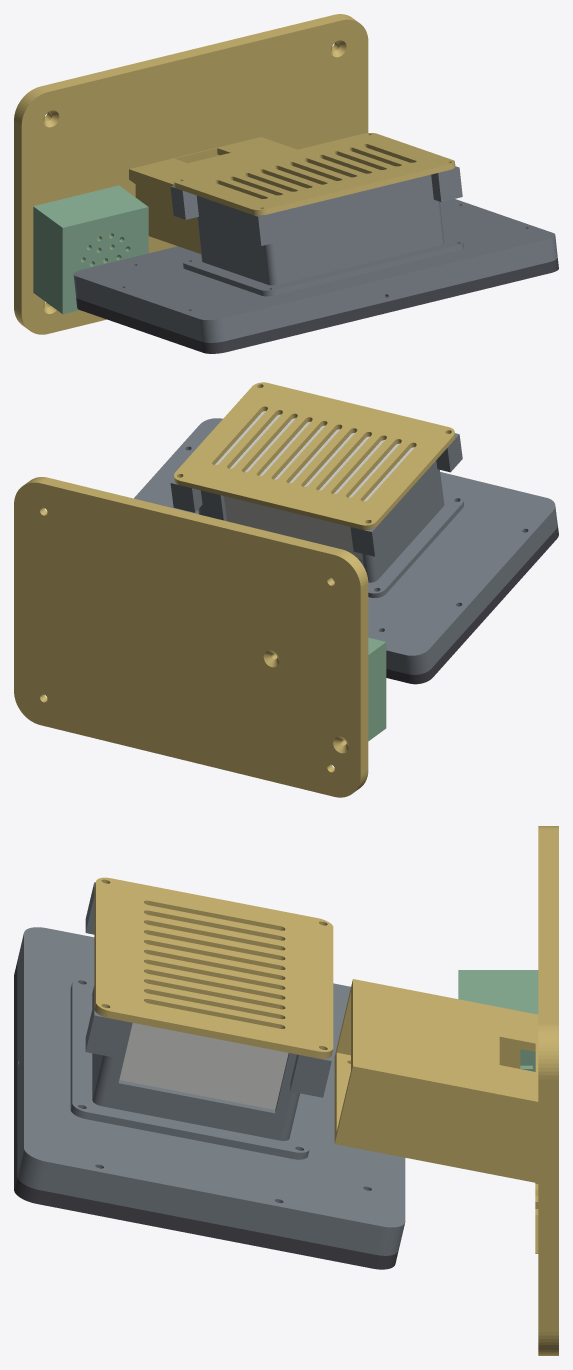
Rendered from montagem-ESTUDO.glb.
3 views of the same model, one above another, from view 1: azimuth 30°, elevation 25°; view 2: azimuth 150°, elevation 25°; view 3: azimuth 270°, elevation 25° (orthographic). The views are drawn at different scales.
Parts seen in each view (by area): view 1: pescoco_base, placa, caixa, tampa, modulo_som, moldura; view 2: pescoco_base, tampa, placa, caixa, caixa_pi, moldura, modulo_som; view 3: placa, pescoco_base, tampa, caixa, caixa_pi, moldura, modulo_som.
Part boxes in pixels (x1,y1,x2,y2): pescoco_base: [14, 14, 368, 334]; placa: [73, 199, 557, 342]; caixa: [170, 166, 464, 296]; tampa: [174, 133, 455, 215]; modulo_som: [33, 185, 148, 314]; moldura: [76, 258, 558, 353]; pescoco_base: [14, 477, 368, 797]; tampa: [174, 382, 455, 529]; placa: [134, 418, 557, 674]; caixa: [170, 433, 463, 597]; caixa_pi: [215, 411, 414, 559]; moldura: [386, 525, 558, 684]; modulo_som: [368, 637, 386, 741]; placa: [17, 927, 405, 1255]; pescoco_base: [334, 826, 558, 1355]; tampa: [94, 877, 333, 1058]; caixa: [70, 882, 331, 1159]; caixa_pi: [119, 1023, 288, 1109]; moldura: [14, 962, 398, 1269]; modulo_som: [458, 970, 538, 1071].
Size of the model in its own units: 214 by 140 by 211.
